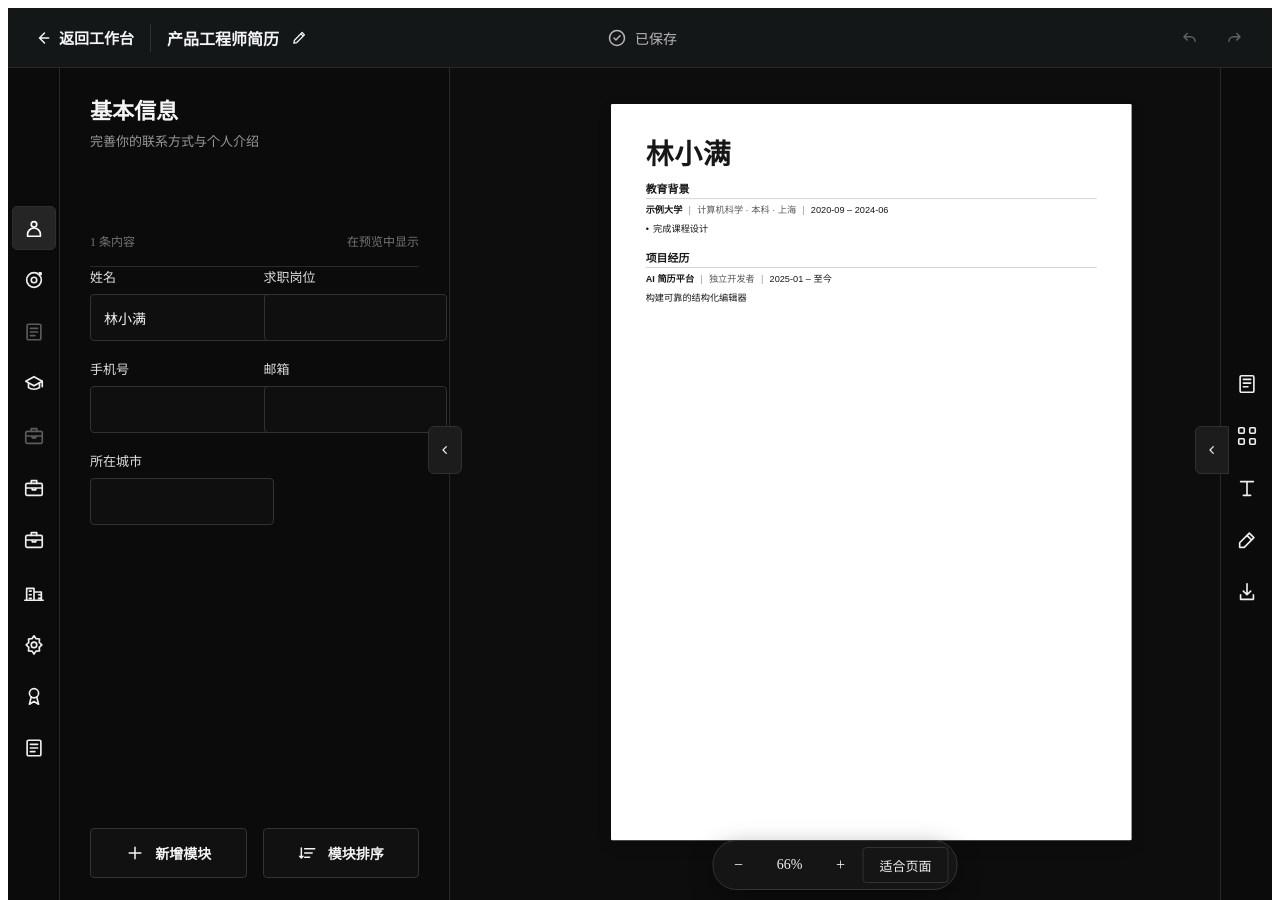
Test: editor workspace module management › renames a clean resume and advances the shared revision without touching its body
The width and height of the screenshot is (1280, 900).
Click the button titled "重命名简历".
click(238, 38)  # box [167,18,308,58]
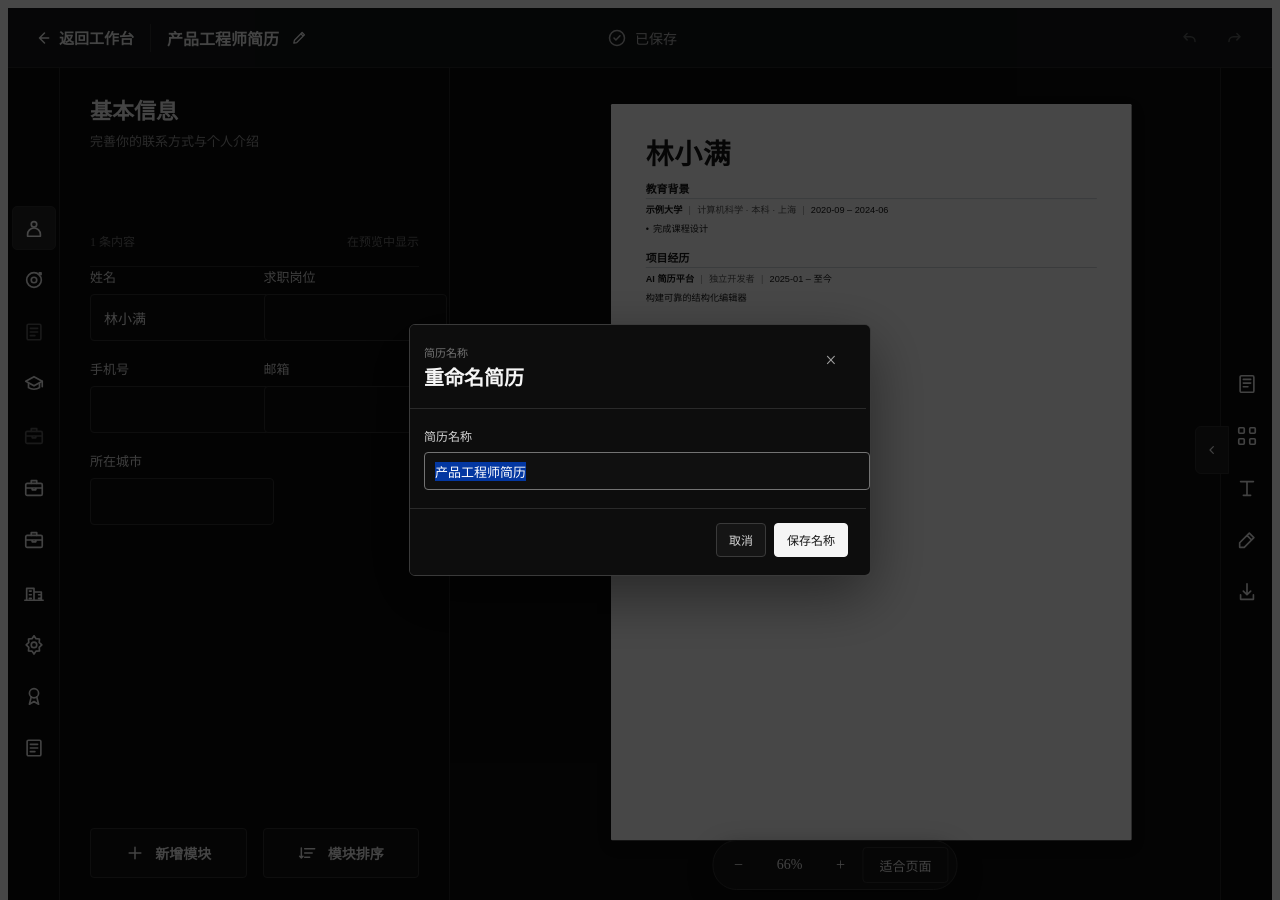
Replace the text in the field labelled "简历名称" with "后端工程师简历🙂" at [647, 471], box [424,452,870,490]
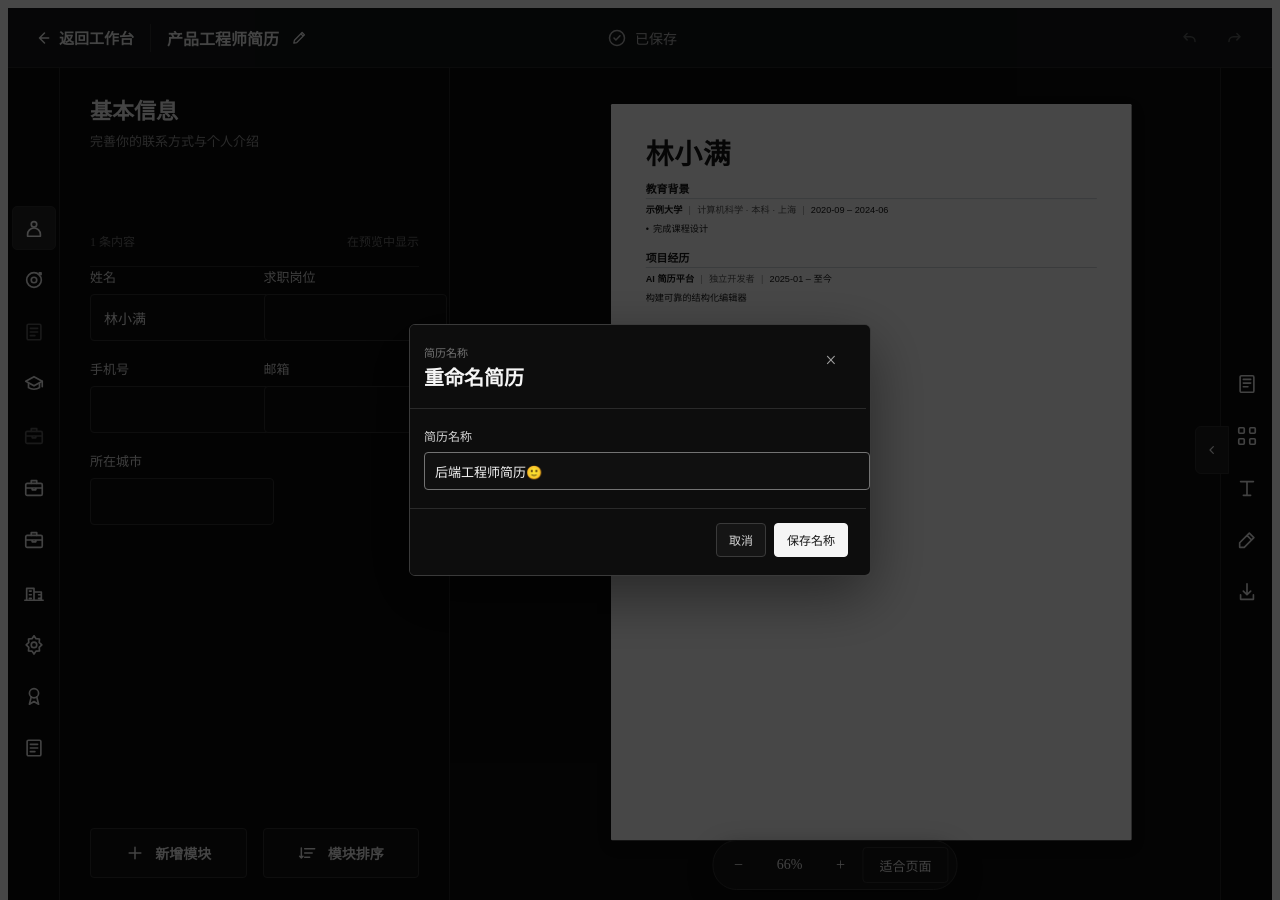
Click the button "保存名称".
click(811, 540)  # box [774,523,848,557]
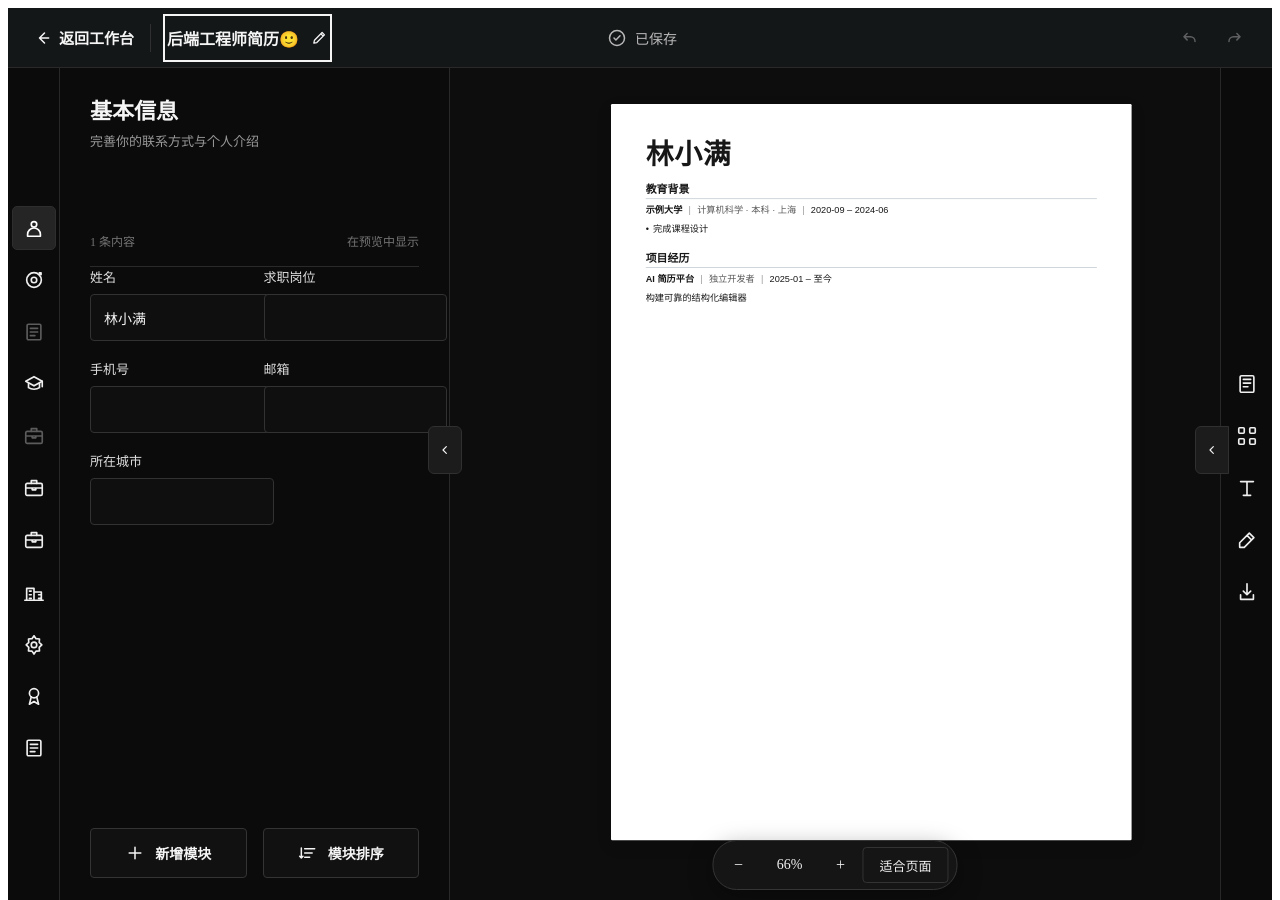
Expected: the heading "重命名简历" is gone
Expected: the button titled "重命名简历" reads "后端工程师简历🙂", [167,18,328,58]
